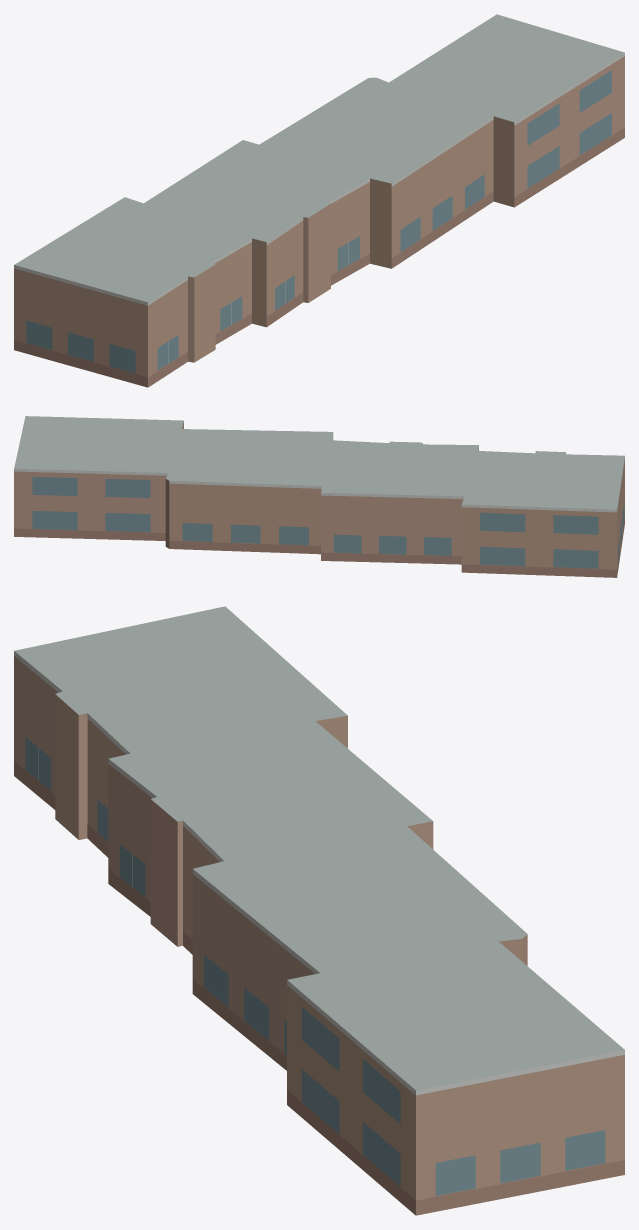
Rendered from survey-upis-32510927.glb.
3 renders of one model, top to bottom at view 1: azimuth 30°, elevation 25°; view 2: azimuth 150°, elevation 25°; view 3: azimuth 270°, elevation 25°, orthographic. The views are drawn at different scales.
Parts seen in each view (by area): view 1: survey-upis-32510927.tmp; view 2: survey-upis-32510927.tmp; view 3: survey-upis-32510927.tmp.
Part boxes in pixels (x1=…): survey-upis-32510927.tmp: x1=14, y1=14, x2=624, y2=387; survey-upis-32510927.tmp: x1=14, y1=416, x2=624, y2=577; survey-upis-32510927.tmp: x1=14, y1=606, x2=624, y2=1215.
Size of the model in its own units: 50.62 by 6.1 by 26.99.
